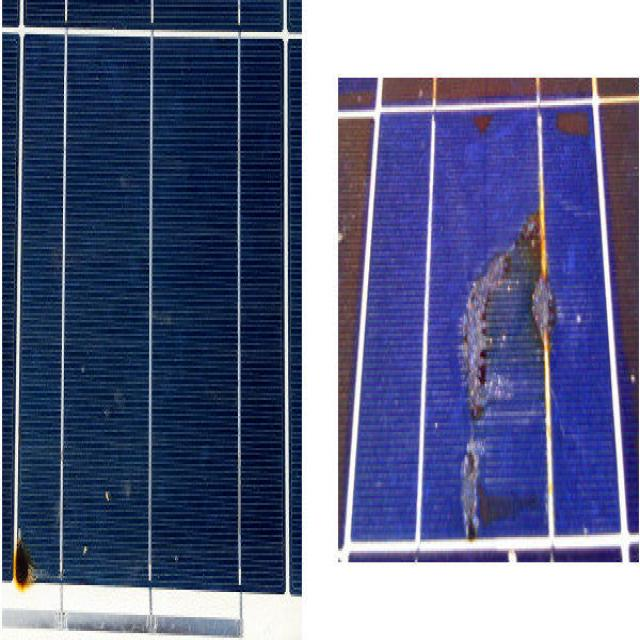shadow: (453, 193, 556, 427), (336, 83, 376, 548), (595, 81, 640, 464), (448, 442, 545, 544), (1, 468, 62, 618), (383, 78, 533, 124), (554, 83, 590, 159), (470, 102, 506, 152)
